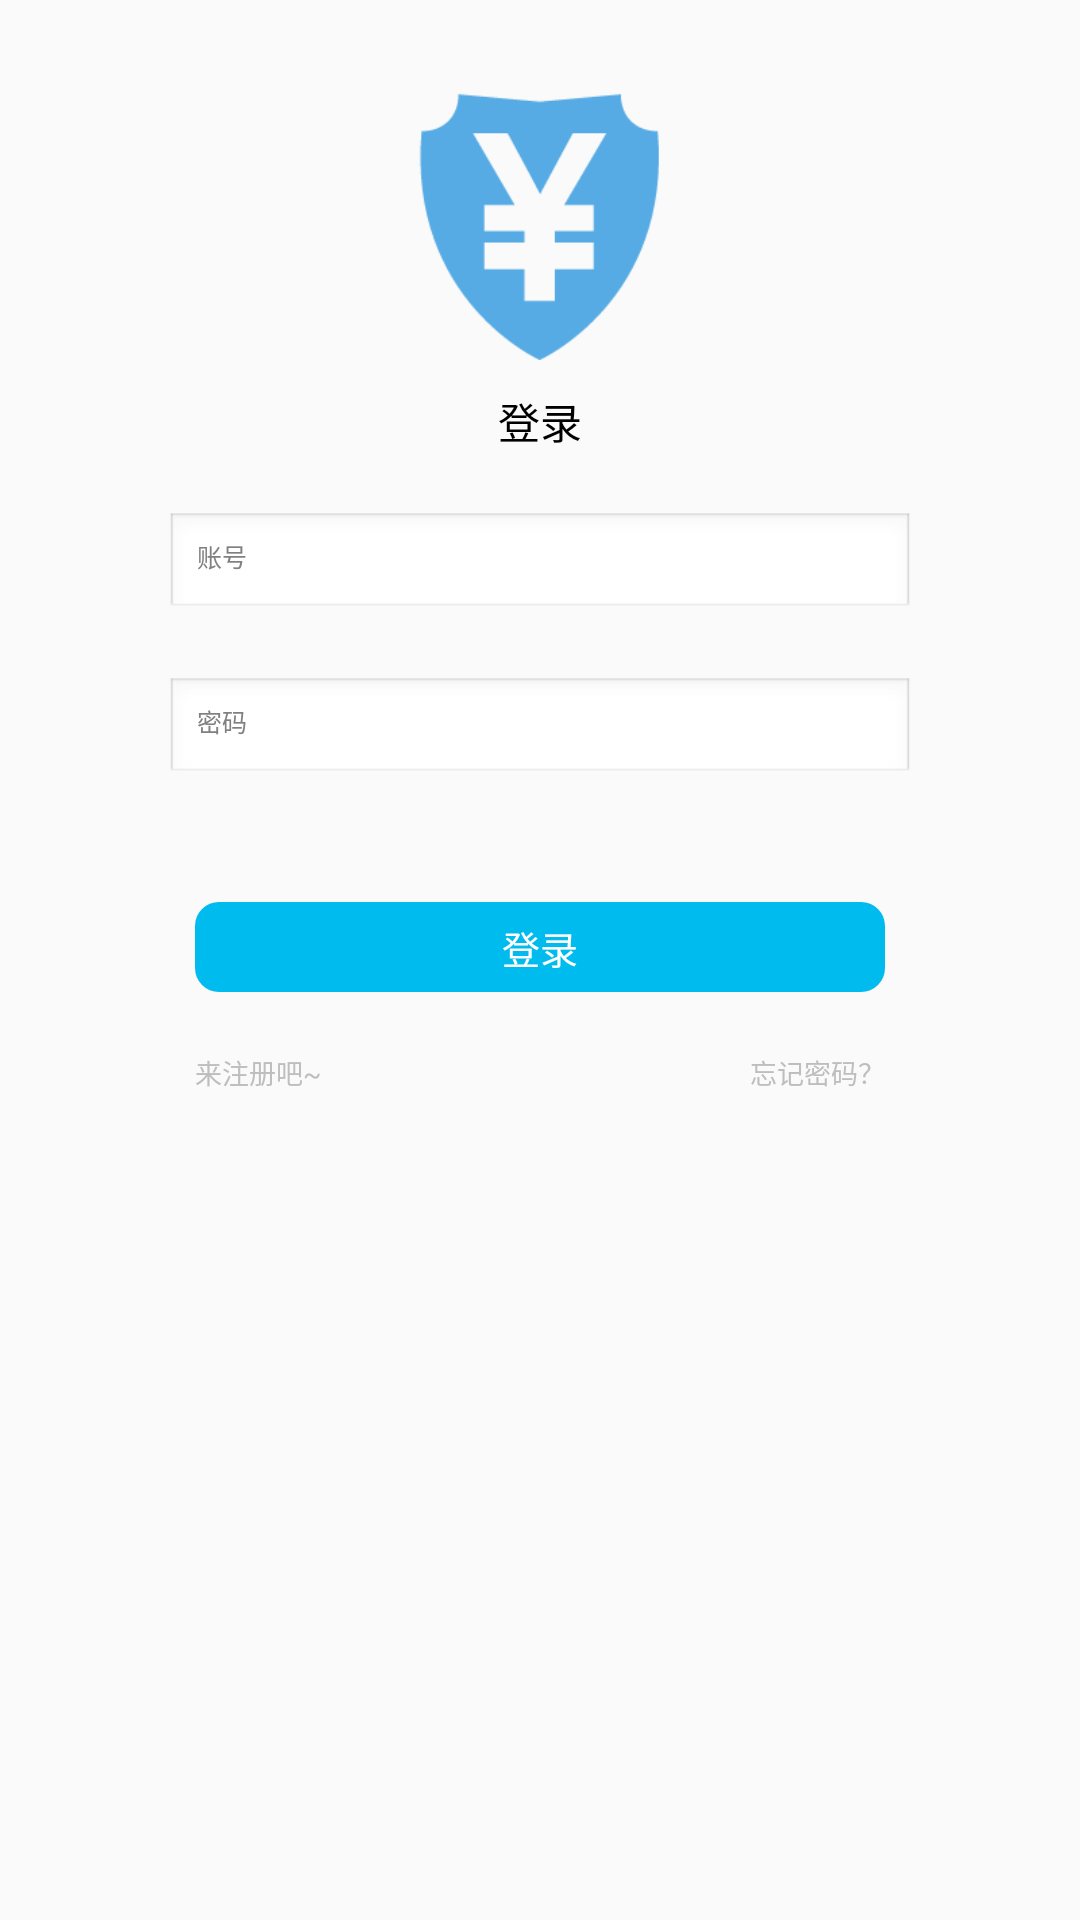

Icons on this 1080 × 1920 Android screen, each with its box as bbox(x1, y1, x2, y2):
pay: bbox(420, 94, 659, 360)
